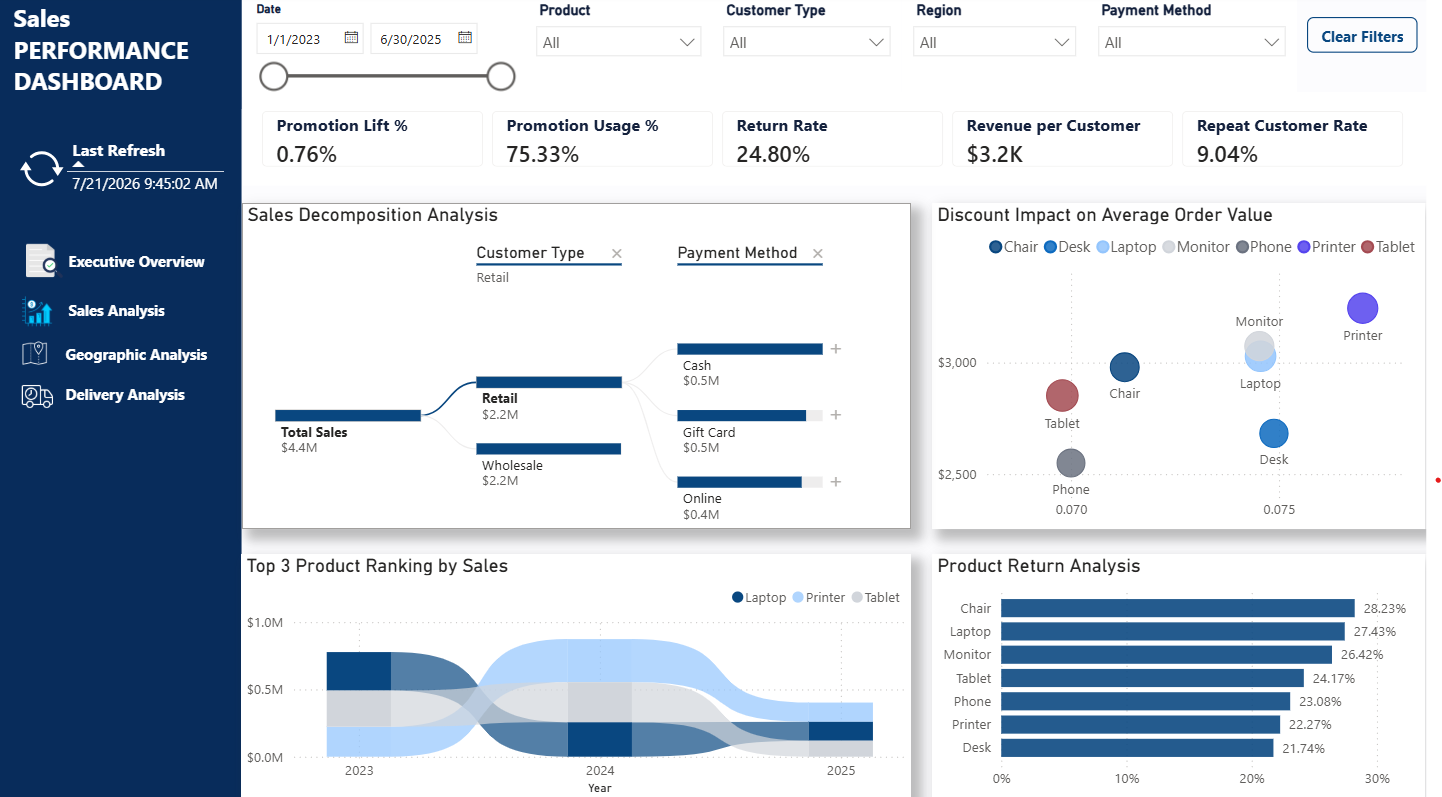

Layout of this report page (visuals, bound fields, positions):
{"tool":"powerbi","page":{"name":"Sales Analysis","canvas":[1280,720],"ordinal":1},"visuals":[{"type":"group","id":"g1","title":"Navigation Panel","box":[0,0,1280,720],"z":0},{"type":"shape","box":[0,0,219,720],"z":0,"group":"g1"},{"type":"slicer","fields":{"Values":["Data.Date"]},"box":[219,0,253,90],"z":0,"group":"g2"},{"type":"textbox","box":[10,0,208.8,101.2],"z":1000,"group":"g1"},{"type":"group","id":"g2","title":"Slicers","box":[219,0,945,90],"z":1000},{"type":"slicer","fields":{"Values":["Data.Region"]},"box":[810,0,166,90],"z":1000,"group":"g2"},{"type":"slicer","fields":{"Values":["Data.Product"]},"box":[472,0,168,90],"z":2000,"group":"g2"},{"type":"ribbonChart","title":"Top 3 Product Ranking by Sales","fields":{"Category":["Calendar.Year"],"Y":["#DAX.Total Sales"],"Series":["Data.Product"]},"box":[218.7,499.9,599.7,220.7],"z":2000},{"type":"slicer","fields":{"Values":["Data.CustomerType"]},"box":[640,0,170,90],"z":3000,"group":"g2"},{"type":"scatterChart","title":"Discount Impact on Average Order Value","fields":{"X":["Avg(Data.Discount)"],"Size":["#DAX.Total Quantity"],"Series":["Data.Product"],"Y":["#DAX.Average Order Value"]},"box":[837.5,185.4,442.5,292.3],"z":3000},{"type":"slicer","fields":{"Values":["Data.PaymentMethod"]},"box":[976,0,188,90],"z":4000,"group":"g2"},{"type":"cardVisual","title":"Promotion Impact on Sales","fields":{"Data":["#DAX.Promotion Lift %","#DAX.Promotion Usage %","#DAX.Return Rate","#DAX.Revenue per Customer","#DAX.Repeat Customer Rate"]},"box":[220,86,1060,84],"z":4000},{"type":"decompositionTreeVisual","title":"Sales Decomposition Analysis","fields":{"Analyze":["#DAX.Total Sales"],"ExplainBy":["Data.CustomerType","Data.PaymentMethod","Data.Product","Data.Region","Data.Promotion","Data.Salesperson"]},"box":[219.7,185.4,598.7,292.3],"z":5000},{"type":"clusteredBarChart","title":"Product Return Analysis","fields":{"Category":["Data.Product"],"Y":["#DAX.Return Rate"]},"box":[837.5,499.9,442.5,219.7],"z":6000},{"type":"tableEx","fields":{"Values":["Last Refresh.Last Refresh"]},"box":[56.3,121.2,163,67.8],"z":7000},{"type":"actionButton","title":"Clear Filters","box":[1180,17.5,100,32.5],"z":16000,"group":"g1"},{"type":"actionButton","box":[60,224.5,139.1,27.3],"z":17000,"group":"g1"},{"type":"actionButton","box":[60,269.1,94.5,27.3],"z":18000,"group":"g1"},{"type":"actionButton","box":[56.9,307.7,149.2,25.4],"z":19000,"group":"g1"},{"type":"actionButton","box":[57.4,343.7,140.1,31.2],"z":21000,"group":"g1"},{"type":"image","box":[26.4,208.2,32.7,59.1],"z":22000,"group":"g1"},{"type":"image","box":[22.7,267.3,27.3,30.9],"z":23000,"group":"g1"},{"type":"image","box":[10.8,306.2,46.2,28.5],"z":24000,"group":"g1"},{"type":"image","box":[7.1,343.7,57.4,28.2],"z":25000,"group":"g1"},{"type":"image","box":[20.9,135.5,39.1,39.1],"z":26000,"group":"g1"}]}

Visuals, with their boxes on the page's 1280x720 design canvas (x1, y1, x2, y2). These are canvas units, not pixel positions in the 1442x797 screenshot, which may show the page scaled, cropped or inside an application window:
"Navigation Panel" group: <box>0,0,1280,720</box>
shape: <box>0,0,219,720</box>
slicer - Data.Date: <box>219,0,472,90</box>
textbox: <box>10,0,219,101</box>
"Slicers" group: <box>219,0,1164,90</box>
slicer - Data.Region: <box>810,0,976,90</box>
slicer - Data.Product: <box>472,0,640,90</box>
"Top 3 Product Ranking by Sales" ribbonChart: <box>219,500,818,721</box>
slicer - Data.CustomerType: <box>640,0,810,90</box>
"Discount Impact on Average Order Value" scatterChart: <box>838,185,1280,478</box>
slicer - Data.PaymentMethod: <box>976,0,1164,90</box>
"Promotion Impact on Sales" cardVisual: <box>220,86,1280,170</box>
"Sales Decomposition Analysis" decompositionTreeVisual: <box>220,185,818,478</box>
"Product Return Analysis" clusteredBarChart: <box>838,500,1280,720</box>
tableEx - Last Refresh.Last Refresh: <box>56,121,219,189</box>
"Clear Filters" actionButton: <box>1180,18,1280,50</box>
actionButton: <box>60,224,199,252</box>
actionButton: <box>60,269,154,296</box>
actionButton: <box>57,308,206,333</box>
actionButton: <box>57,344,198,375</box>
image: <box>26,208,59,267</box>
image: <box>23,267,50,298</box>
image: <box>11,306,57,335</box>
image: <box>7,344,64,372</box>
image: <box>21,136,60,175</box>
